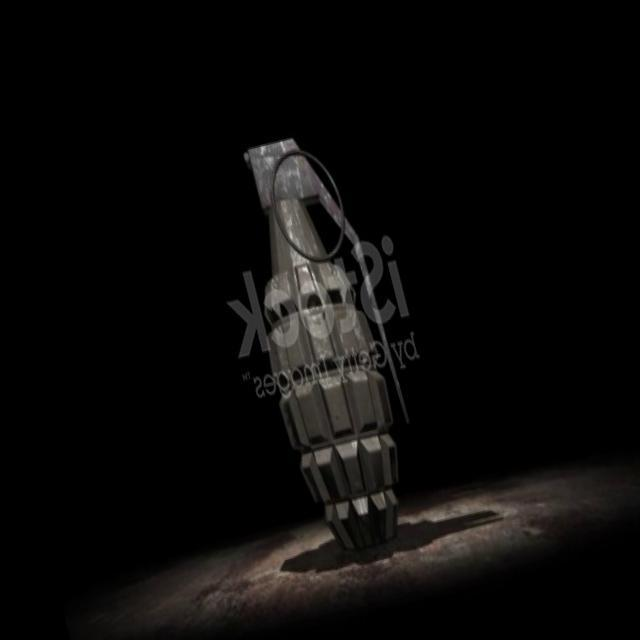grenade: (217, 117, 436, 565)
